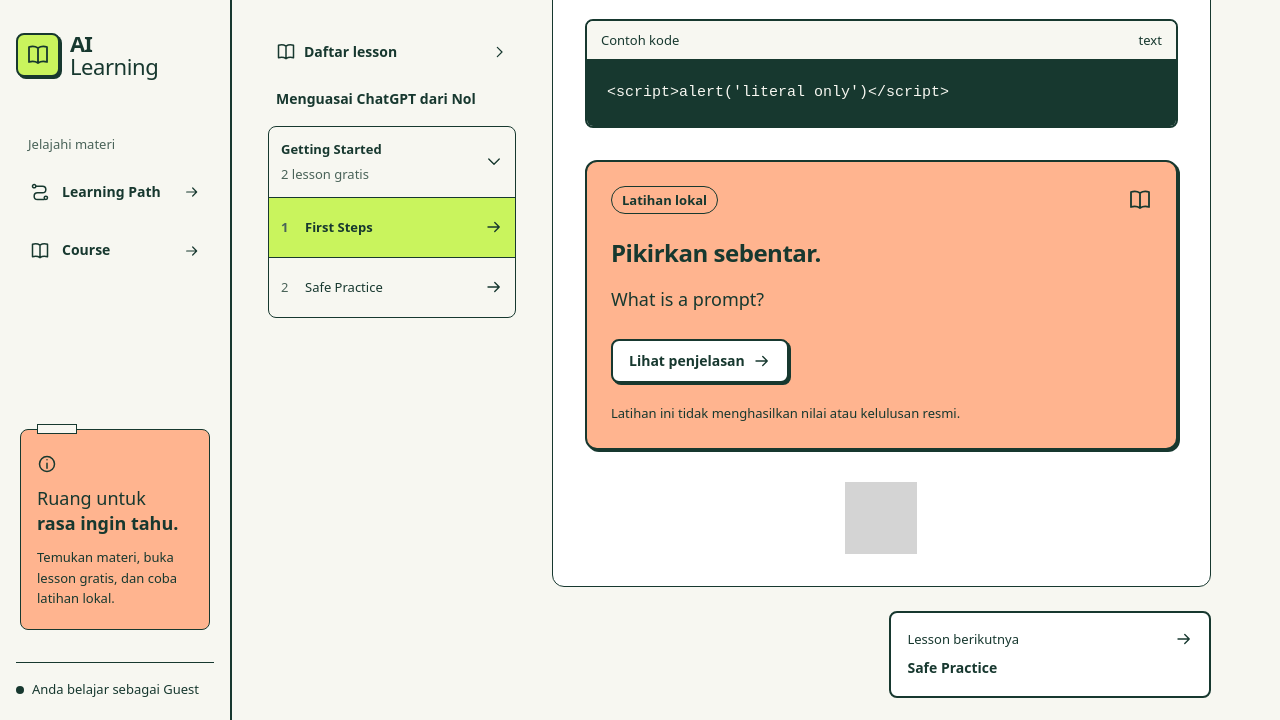
Test case: App › reads a direct Lesson and reveals only local ungraded content
This screenshot has width=1280, height=720.
(page scrolled)
What coordinates should you click on to do the following:
click the button "Lihat penjelasan"
I would click on:
 (700, 361)
Its box is [611,339,789,383].
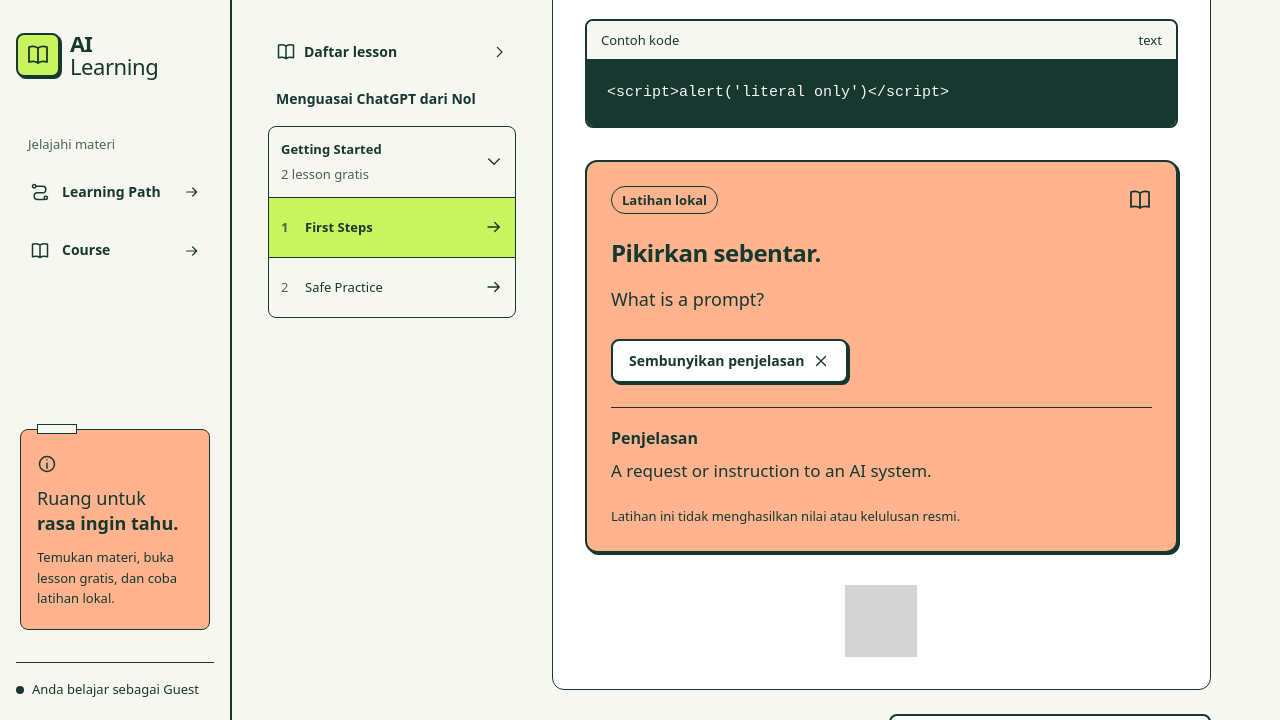
Expected: the text "<script>alert('literal only')</script>" is shown, [607,84,949,101]
Expected: the button named "Lihat penjelasan" is expanded, [611,339,848,383]
Expected: the text "A request or instruction to an AI system." is shown, [611,459,932,482]
